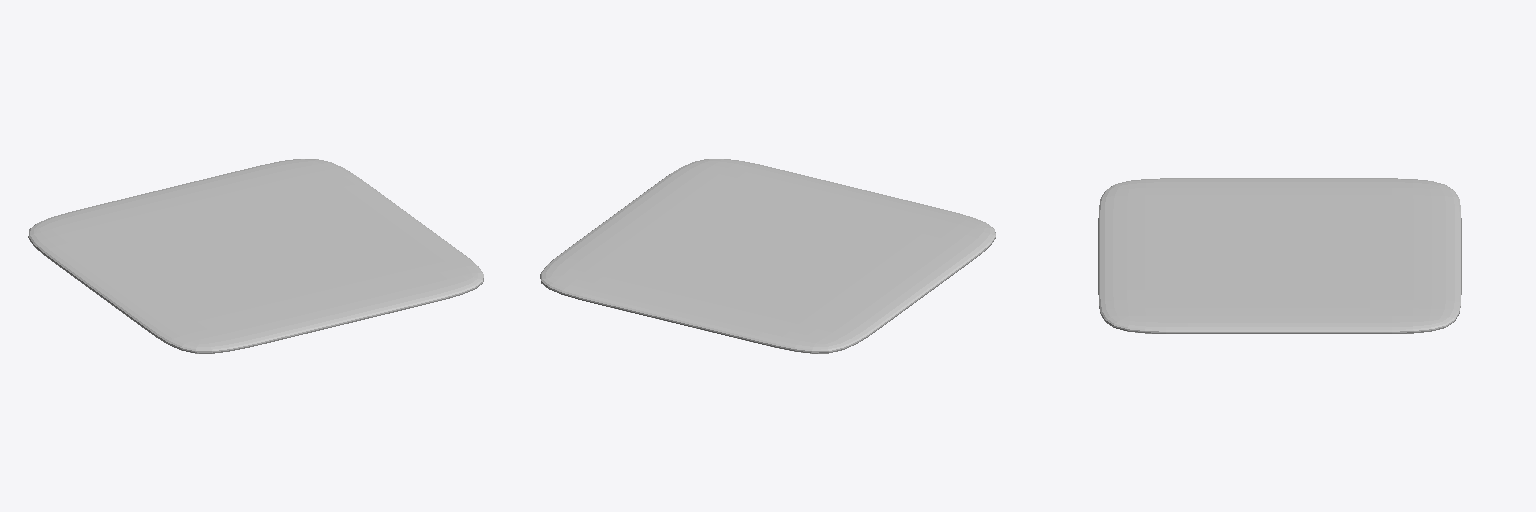
The model's file is mousepad.obj.
3 views of the same model, side by side, from view 1: azimuth 30°, elevation 25°; view 2: azimuth 150°, elevation 25°; view 3: azimuth 270°, elevation 25° (orthographic).
Parts seen in each view (by area): view 1: Plane.016; view 2: Plane.016; view 3: Plane.016.
Boxes of the visible parts, <box> form: Plane.016: <box>28,159,483,353</box>; Plane.016: <box>540,159,995,353</box>; Plane.016: <box>1098,178,1461,333</box>.
Size of the model in its own units: 0.9738 by 0.0265 by 0.9738.